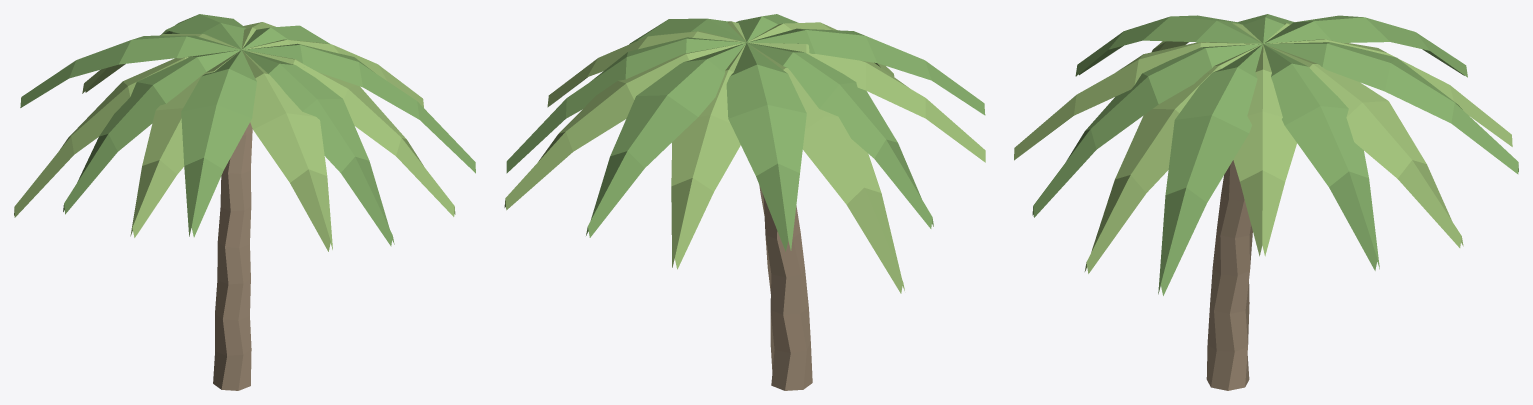
The model's file is palm.glb.
The picture shows the model from 3 angles, left to right: view 1: azimuth 30°, elevation 25°; view 2: azimuth 150°, elevation 25°; view 3: azimuth 270°, elevation 25°; orthographic projection. The views are drawn at different scales.
Visible parts, largest first — view 1: trunk, frond.009, frond.010, frond.011, frond.007, frond.008, frond.013, frond.005, frond.012, frond.006, frond.003, frond (+2 smaller); view 2: frond.005, frond.003, frond.006, frond.004, frond.007, trunk, frond.002, frond.009, frond.001, frond.008, frond, frond.013 (+2 smaller); view 3: frond.013, frond.001, trunk, frond.002, frond, frond.003, frond.011, frond.012, frond.005, frond.010, frond.009, frond.004 (+1 smaller).
Boxes of the visible parts, x1=… form: trunk: x1=213, y1=122, x2=252, y2=390; frond.009: x1=181, y1=50, x2=256, y2=237; frond.010: x1=242, y1=50, x2=332, y2=251; frond.011: x1=242, y1=50, x2=394, y2=246; frond.007: x1=63, y1=50, x2=240, y2=214; frond.008: x1=130, y1=50, x2=240, y2=237; frond.013: x1=242, y1=43, x2=475, y2=173; frond.005: x1=20, y1=35, x2=241, y2=107; frond.012: x1=243, y1=50, x2=455, y2=216; frond.006: x1=14, y1=51, x2=231, y2=217; frond.003: x1=161, y1=14, x2=246, y2=49; frond: x1=243, y1=39, x2=423, y2=107; frond.005: x1=726, y1=43, x2=806, y2=251; frond.003: x1=586, y1=42, x2=746, y2=237; frond.006: x1=749, y1=44, x2=904, y2=293; frond.004: x1=671, y1=44, x2=745, y2=269; frond.007: x1=747, y1=42, x2=933, y2=228; trunk: x1=759, y1=185, x2=812, y2=390; frond.002: x1=504, y1=42, x2=745, y2=210; frond.009: x1=747, y1=28, x2=985, y2=115; frond.001: x1=506, y1=37, x2=745, y2=173; frond.008: x1=748, y1=42, x2=985, y2=162; frond: x1=547, y1=31, x2=745, y2=107; frond.013: x1=629, y1=18, x2=746, y2=44; frond.013: x1=1158, y1=44, x2=1262, y2=295; frond.001: x1=1263, y1=44, x2=1379, y2=270; trunk: x1=1206, y1=160, x2=1252, y2=390; frond.002: x1=1264, y1=44, x2=1463, y2=247; frond: x1=1233, y1=44, x2=1296, y2=256; frond.003: x1=1264, y1=42, x2=1518, y2=174; frond.011: x1=1032, y1=44, x2=1262, y2=217; frond.012: x1=1084, y1=44, x2=1261, y2=273; frond.005: x1=1263, y1=15, x2=1467, y2=77; frond.010: x1=1014, y1=42, x2=1261, y2=160; frond.009: x1=1075, y1=15, x2=1262, y2=76; frond.004: x1=1264, y1=39, x2=1512, y2=146.
Size of the model in its own units: 5.29 by 4.32 by 5.55.
